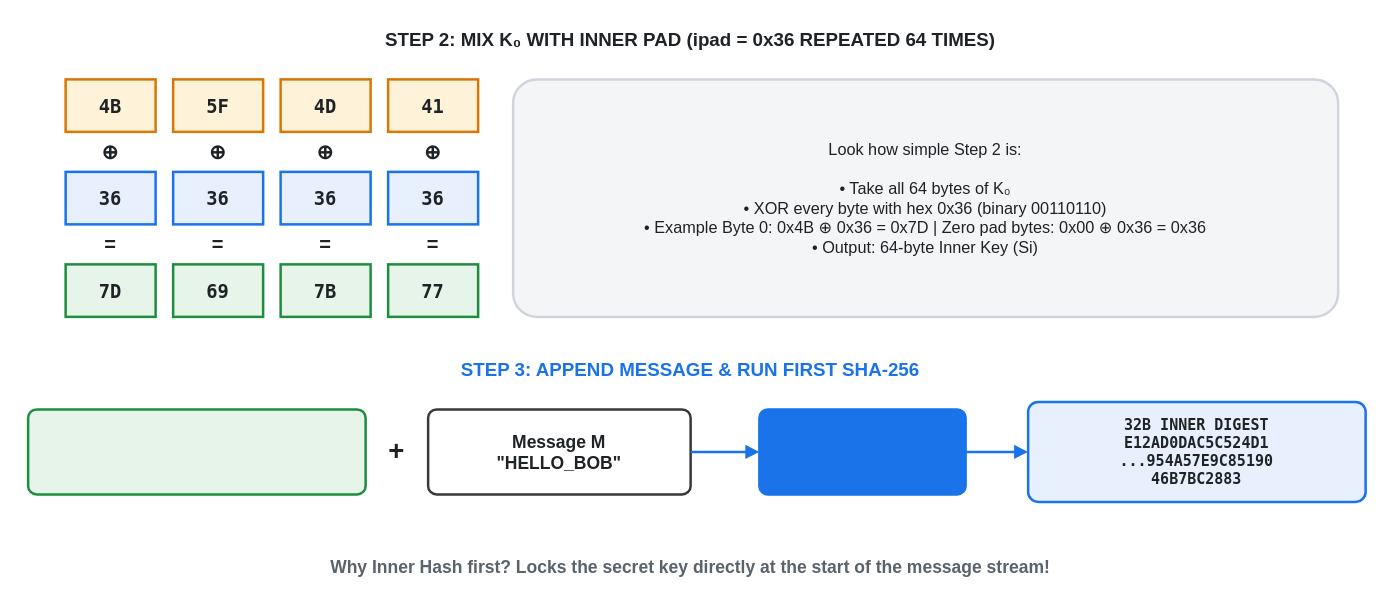
Some shapes in this 1388 by 608 pixel diagram are drawn without their labels. The centre of each missing label's shape, as x and y in pixels:
"64B Inner Key (Si) 7D 69 7B 77 ... 36 36" goes at point (196, 451).
"SHA-256 Engine" goes at point (862, 451).
